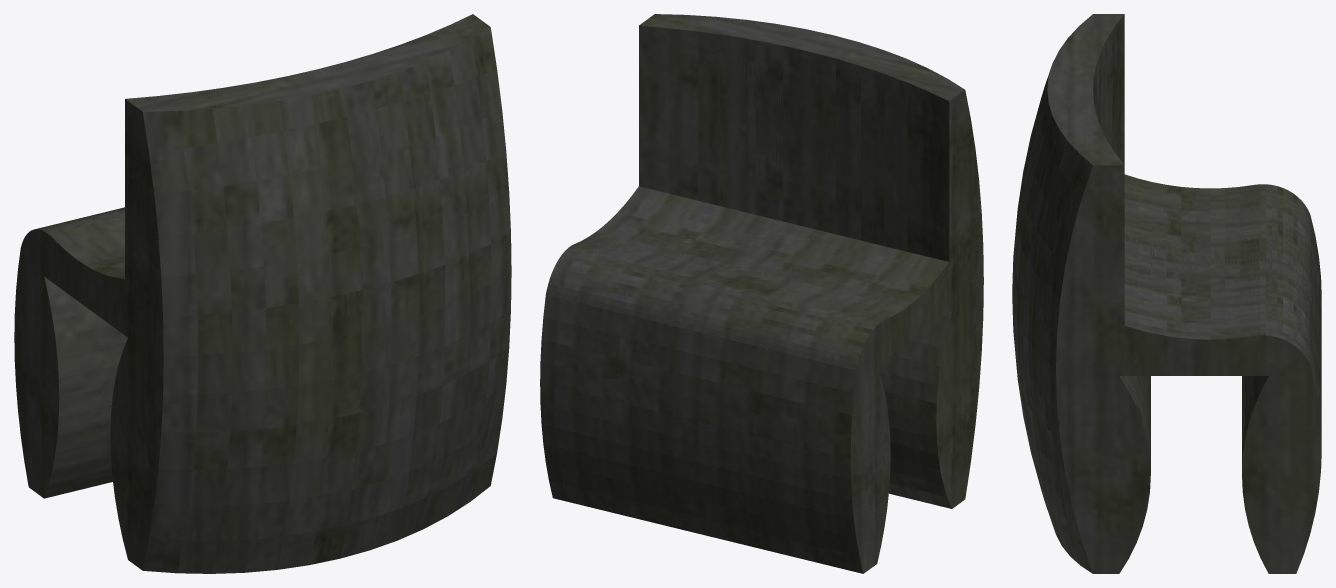
3 renders of one model, left to right at view 1: azimuth 30°, elevation 25°; view 2: azimuth 150°, elevation 25°; view 3: azimuth 270°, elevation 25°, orthographic. The views are drawn at different scales.
Visible parts, largest first — view 1: mesh1_mesh1-geometry; view 2: mesh1_mesh1-geometry; view 3: mesh1_mesh1-geometry.
Boxes of the visible parts, x1,y1,x2,y2 form: mesh1_mesh1-geometry: [14, 14, 511, 573]; mesh1_mesh1-geometry: [540, 14, 983, 573]; mesh1_mesh1-geometry: [1012, 14, 1321, 573].
Bounding box in the file's own units: 0.54 × 0.7001 × 0.4672.
